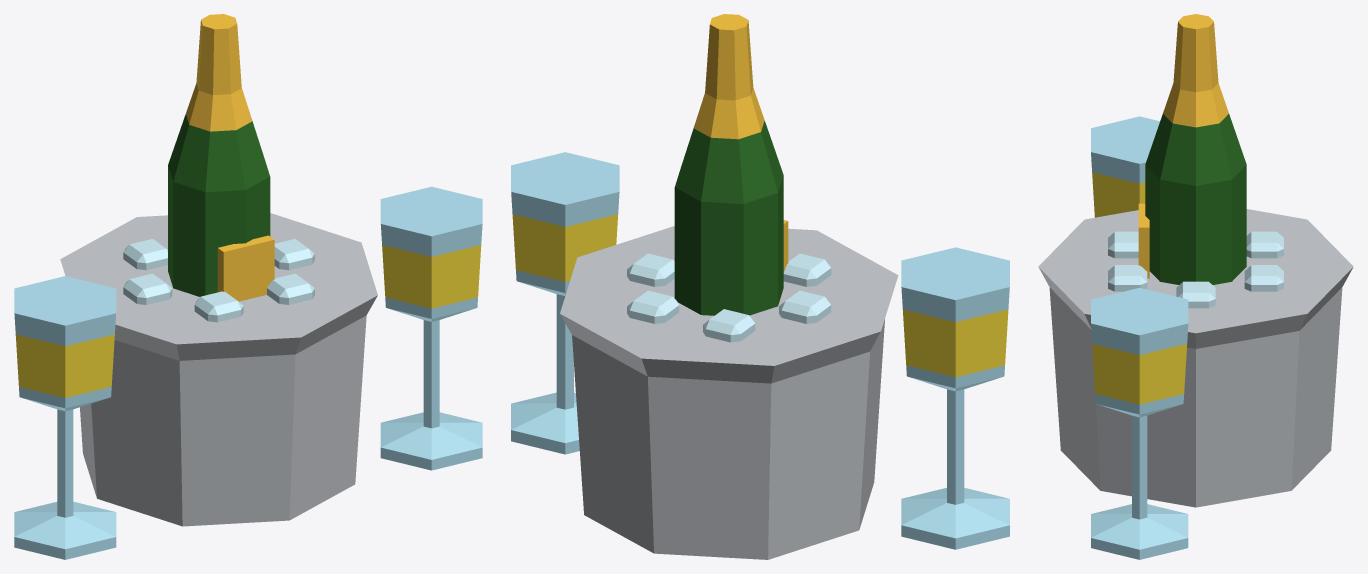
Rendered from SparklingCider.fbx.
The picture shows the model from 3 angles, left to right: view 1: azimuth 30°, elevation 25°; view 2: azimuth 150°, elevation 25°; view 3: azimuth 270°, elevation 25°; orthographic projection. The views are drawn at different scales.
Visible parts, largest first — view 1: SparklingCider; view 2: SparklingCider; view 3: SparklingCider.
Boxes of the visible parts, bbox=[...] form: SparklingCider: bbox=[14, 14, 482, 559]; SparklingCider: bbox=[511, 14, 1009, 559]; SparklingCider: bbox=[1038, 14, 1353, 559].
Bounding box in the file's own units: 4.6 × 4.2 × 2.8.
1 material, 1 textured.
